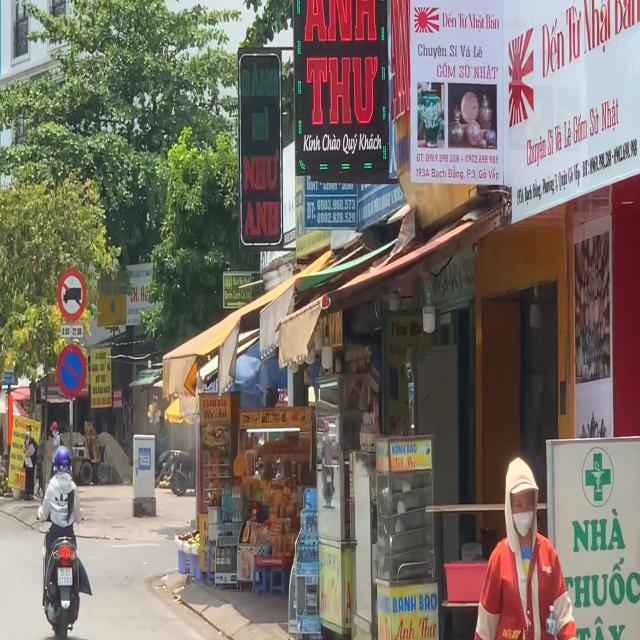Cam con lai: (57, 267, 87, 322)
Cam do: (56, 343, 86, 398)
